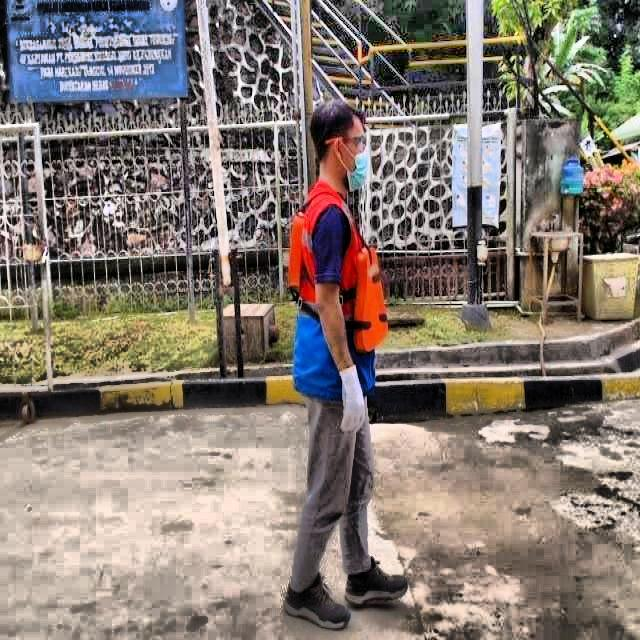safety_jacket: (291, 179, 390, 400)
